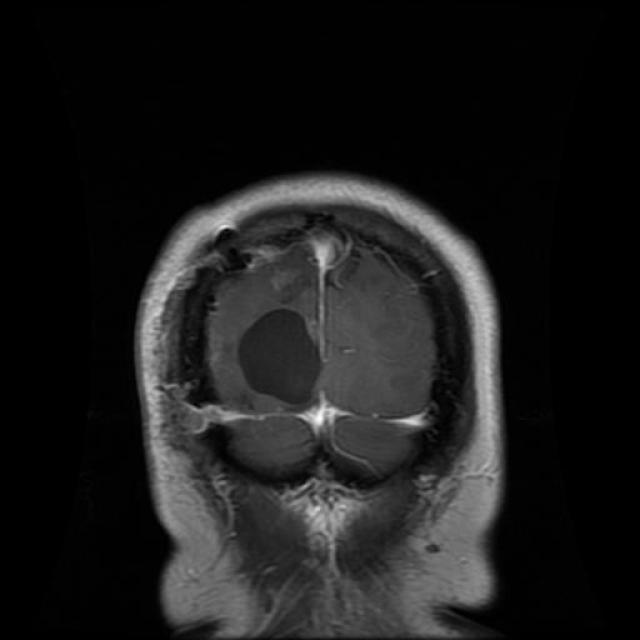glioma: (238, 307, 326, 408)
